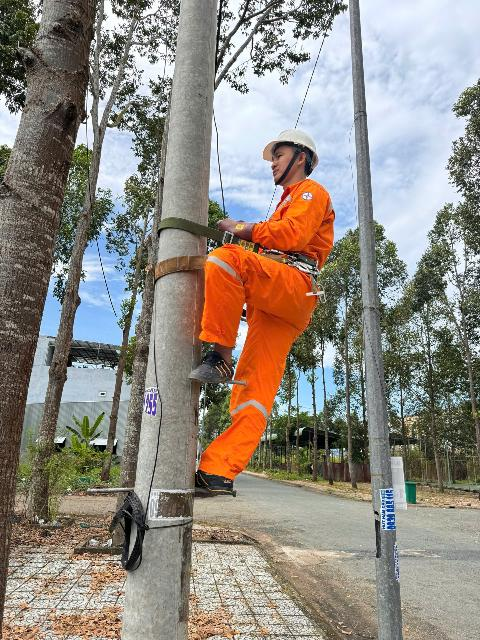gloves: (200, 207, 261, 241)
harness: (259, 241, 339, 293)
helmet: (258, 127, 331, 175)
shoes: (169, 453, 267, 506), (168, 342, 243, 387)
